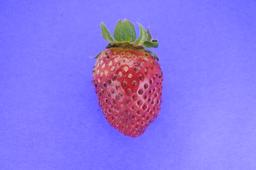red strawberry: (92, 24, 165, 139)
